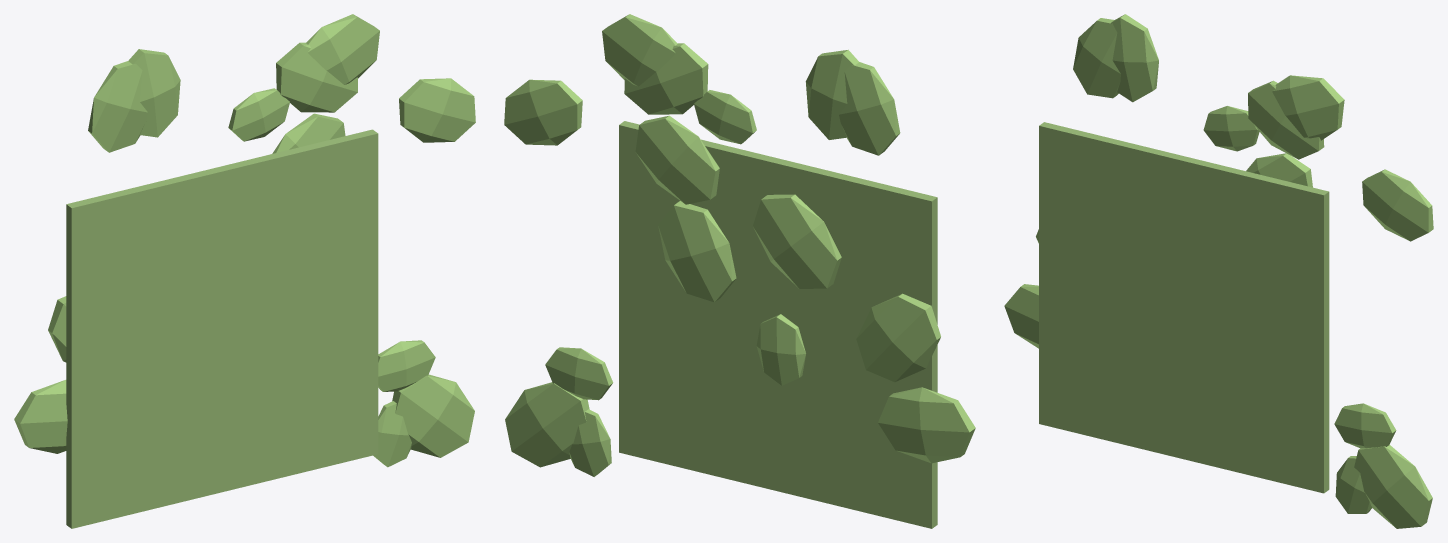
Rendered from Leaves.fbx.
The picture shows the model from 3 angles, left to right: view 1: azimuth 30°, elevation 25°; view 2: azimuth 150°, elevation 25°; view 3: azimuth 330°, elevation 25°; orthographic projection. The views are drawn at different scales.
Parts seen in each view (by area): view 1: Leaves; view 2: Leaves; view 3: Leaves.
Boxes of the visible parts, x1,y1,x2,y2 form: Leaves: (14, 14, 475, 528); Leaves: (504, 14, 975, 528); Leaves: (1004, 14, 1433, 528).
Bounding box in the file's own units: 0.7144 × 0.715 × 0.0445.
